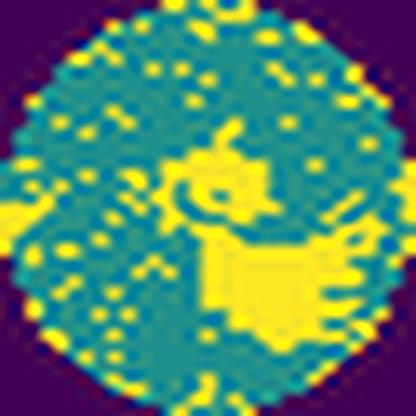Loc: (116, 108, 398, 356)
